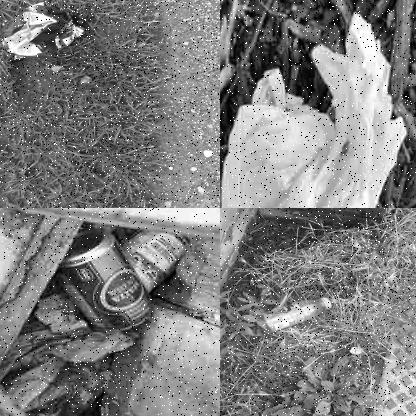metal: (55, 228, 153, 329), (125, 227, 190, 290)
plastic: (220, 12, 395, 207), (0, 1, 87, 62), (254, 296, 335, 330)
